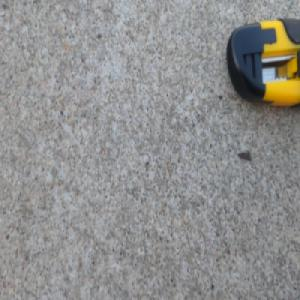Cutter: (224, 16, 300, 110)
